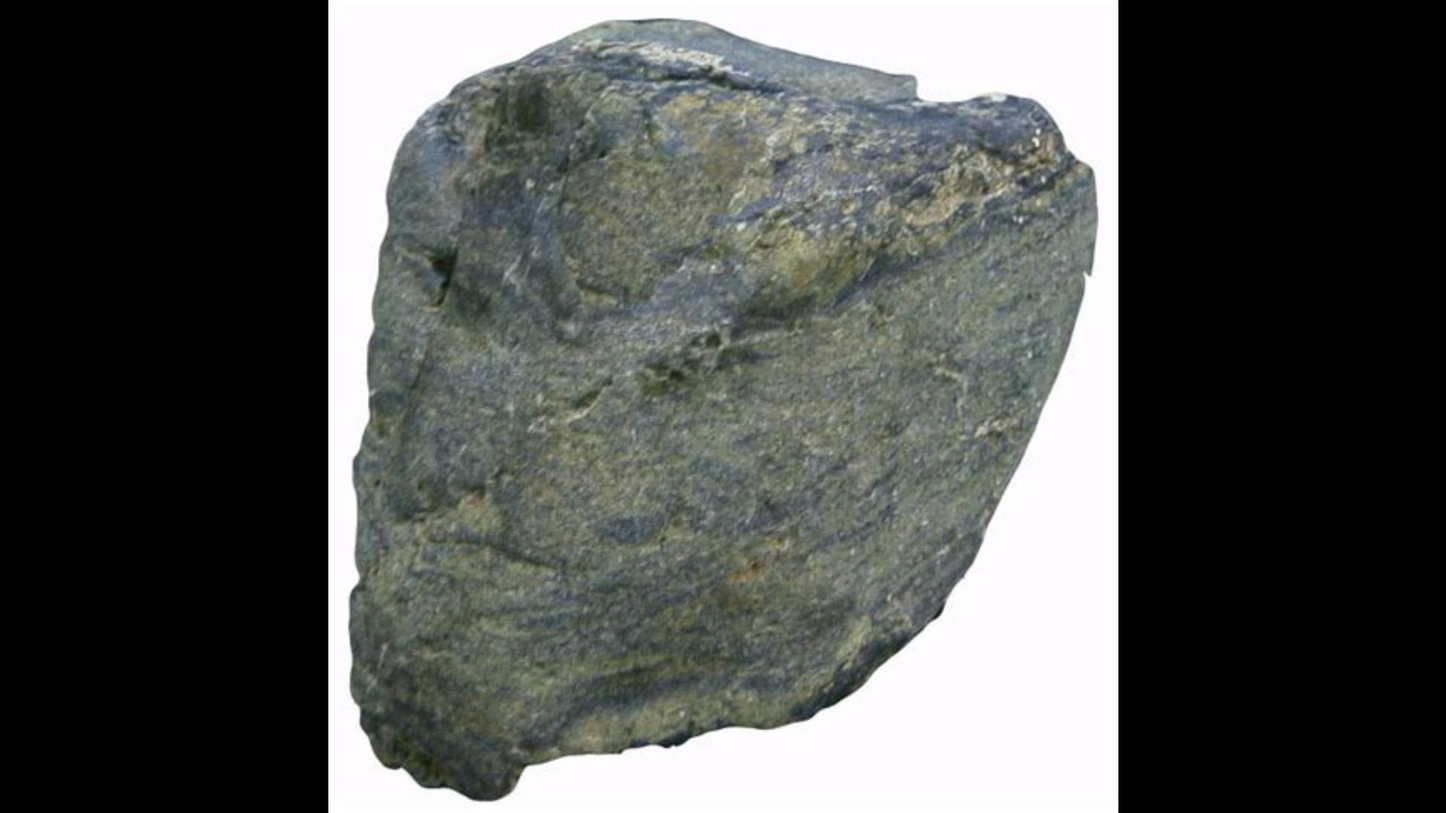rock: (351, 20, 1091, 796)
